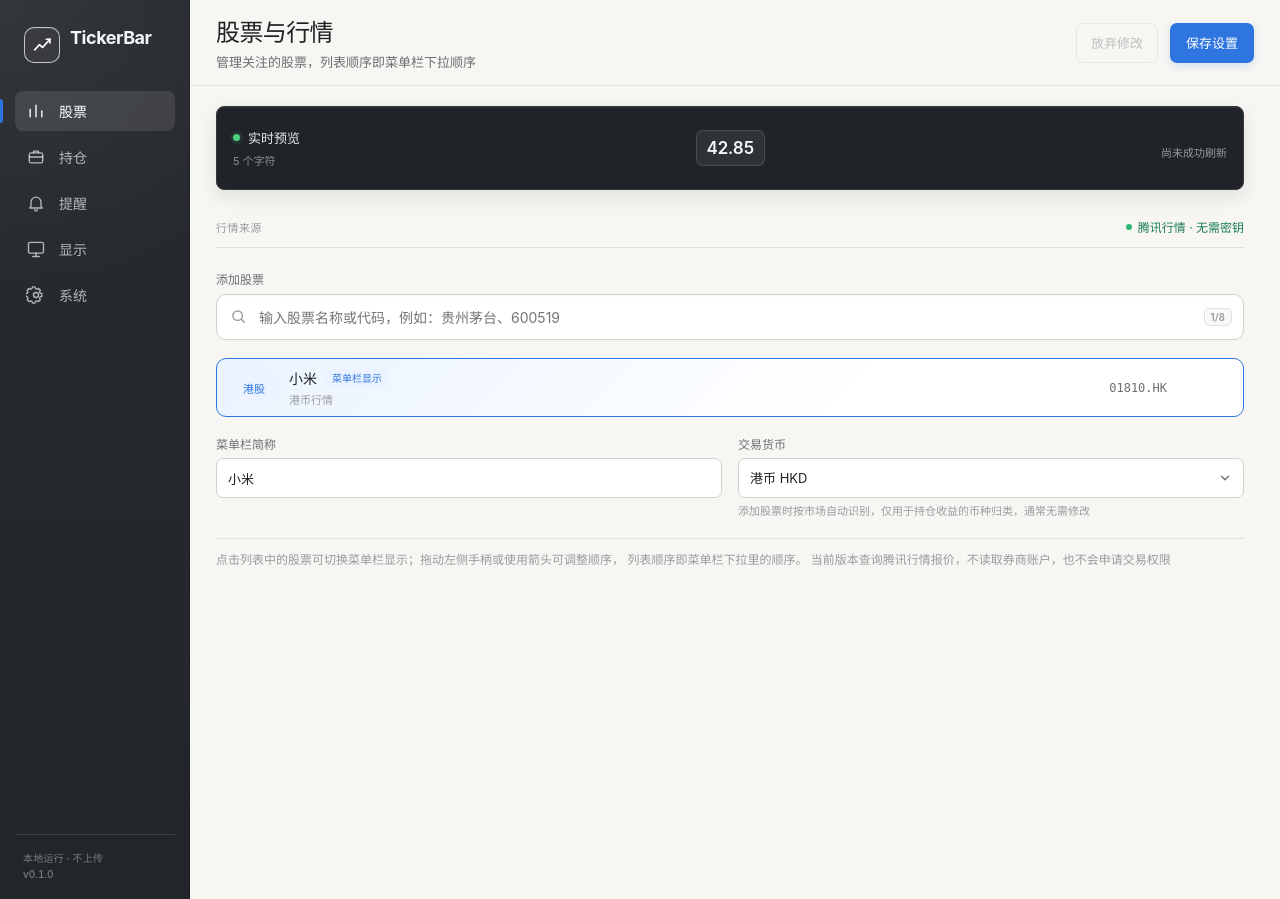
Test: TickerBar settings window › 试发失败时给出可操作的中文提示
The image size is (1280, 899).
Click the button with test id "nav-alerts" at (95, 203), box [15, 183, 175, 223]
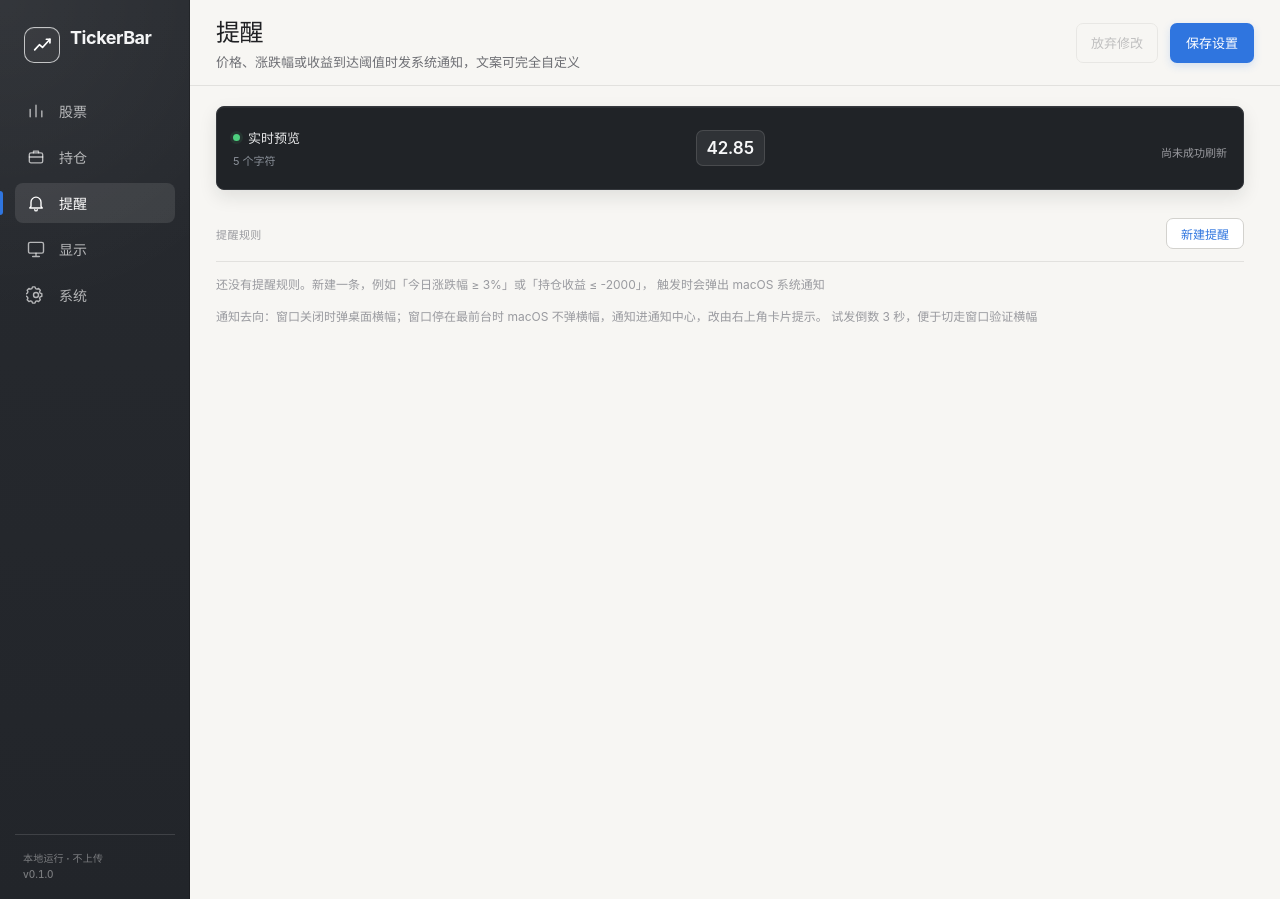
Click the button with test id "alert-create" at (1205, 234), box [1166, 218, 1244, 249]
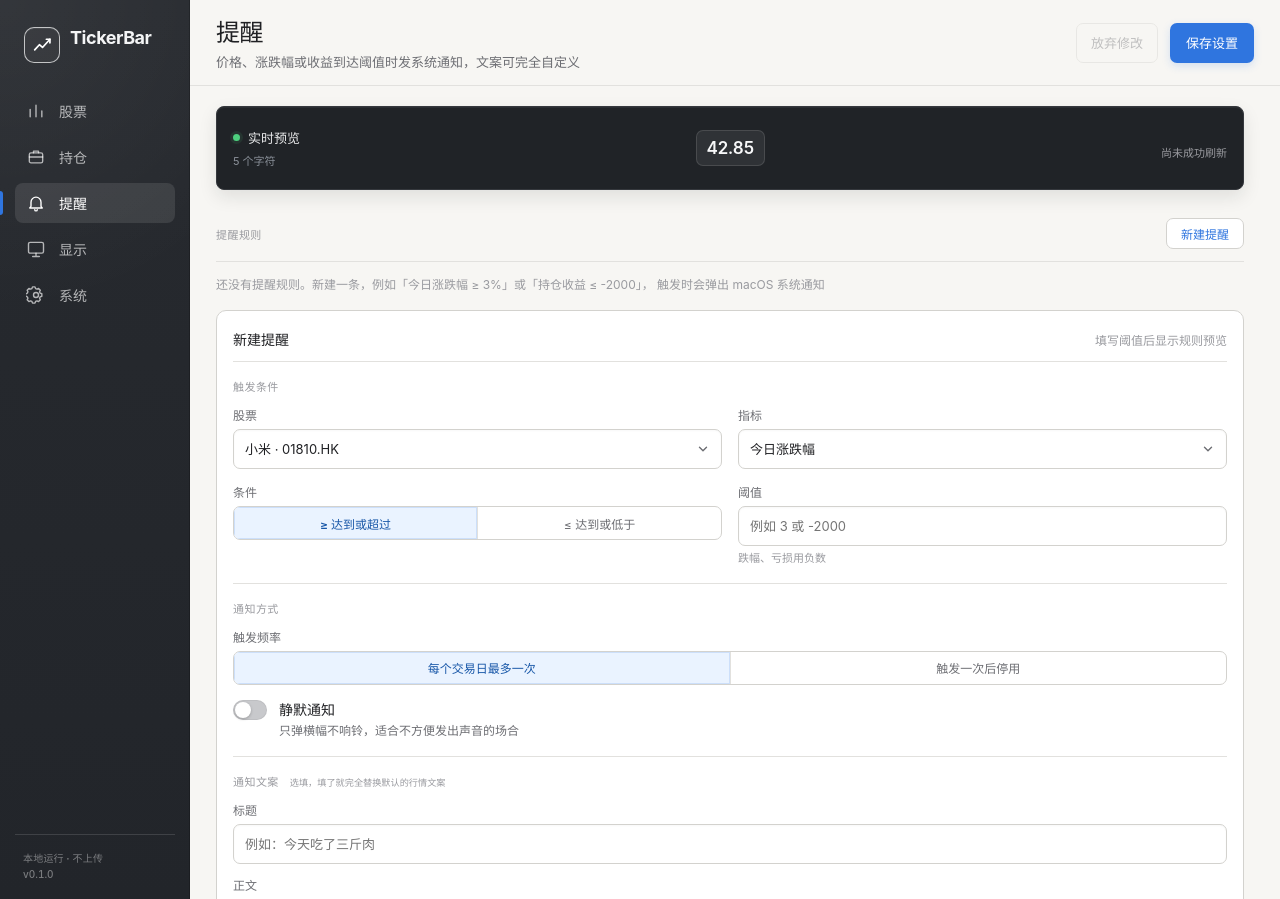
Type "30" into the field with test id "alert-threshold" at (982, 526), box [738, 506, 1227, 546]
(page scrolled)
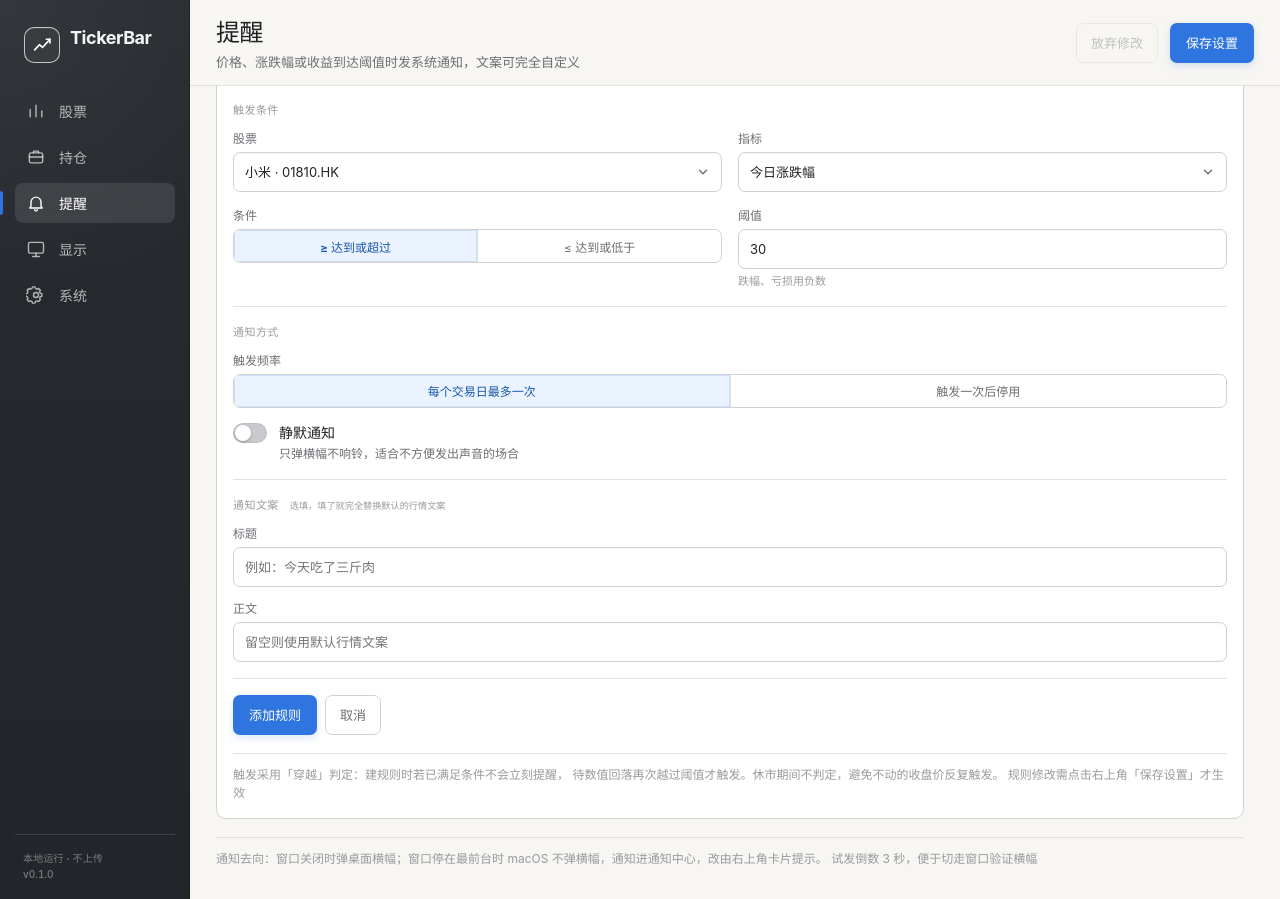
Click the button with test id "alert-submit" at (275, 714), box [233, 694, 317, 734]
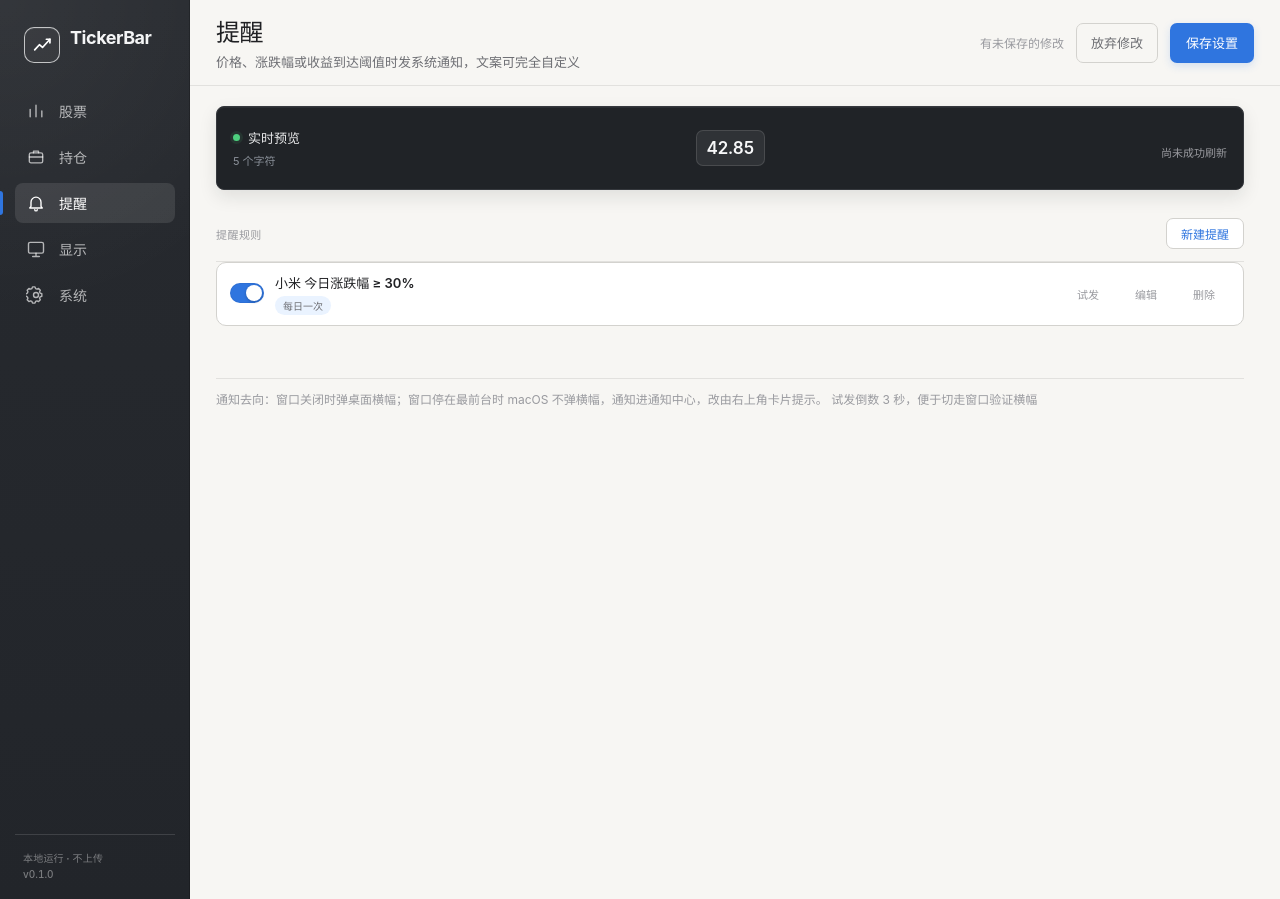
Click the button with test id "alert-test-" at (1088, 294), box [1062, 281, 1114, 307]
Wait 3000 ms
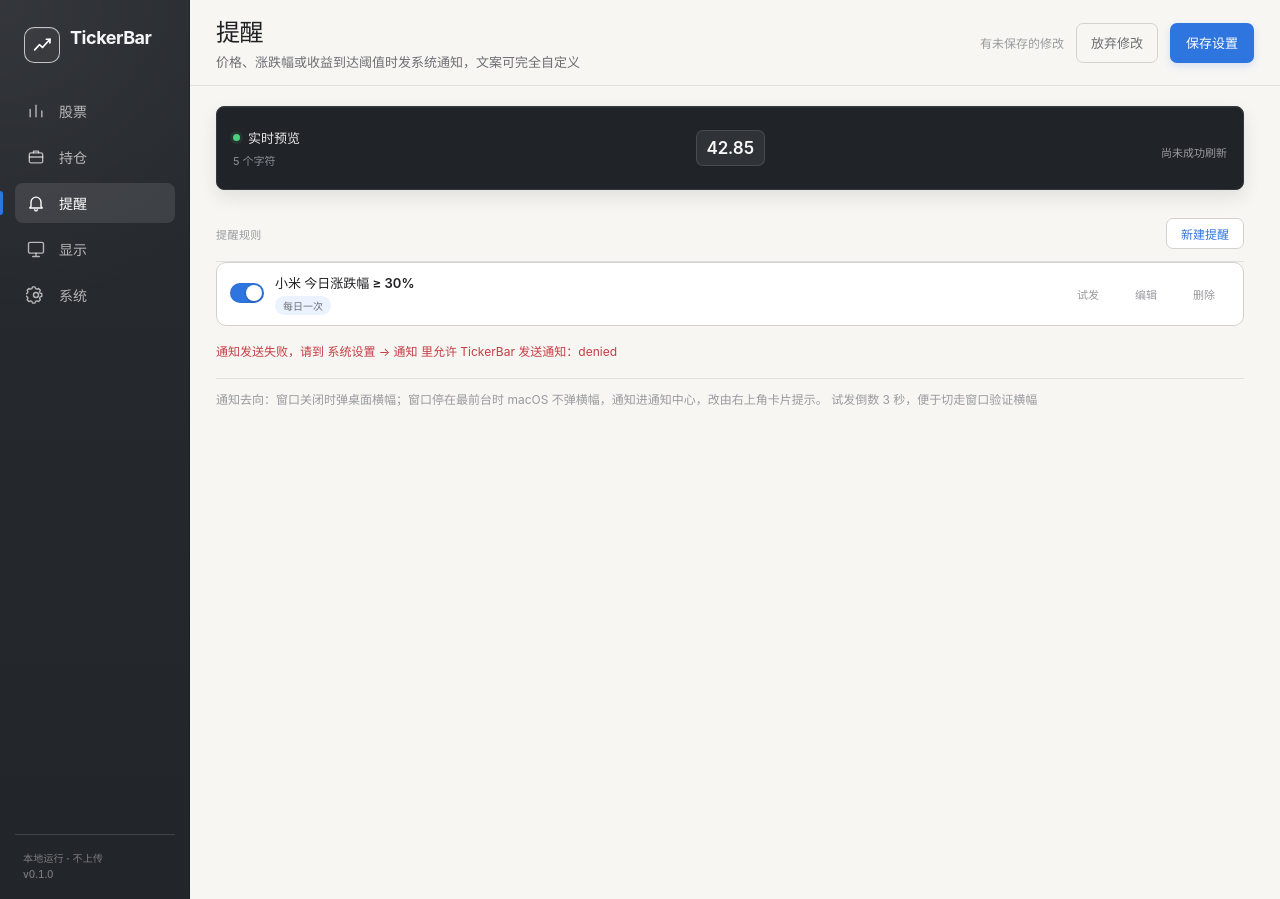
Expected: the text with test id "alert-test-error" shows "系统设置 → 通知", [216, 344, 617, 358]
